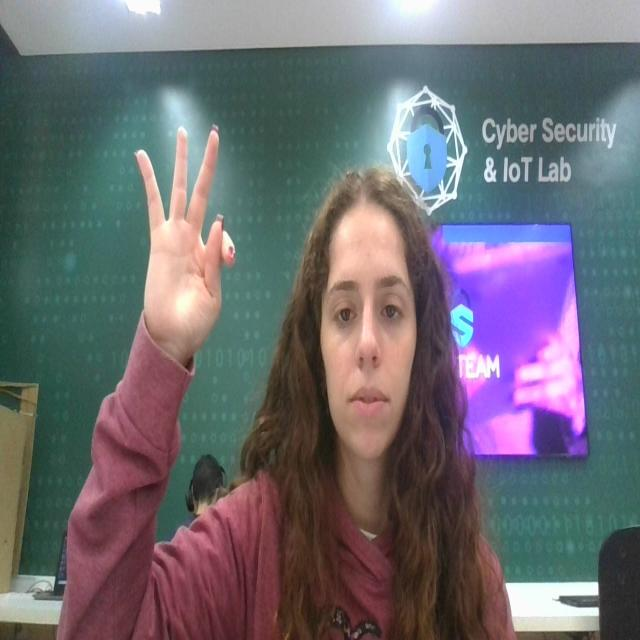T: (130, 114, 240, 348)
